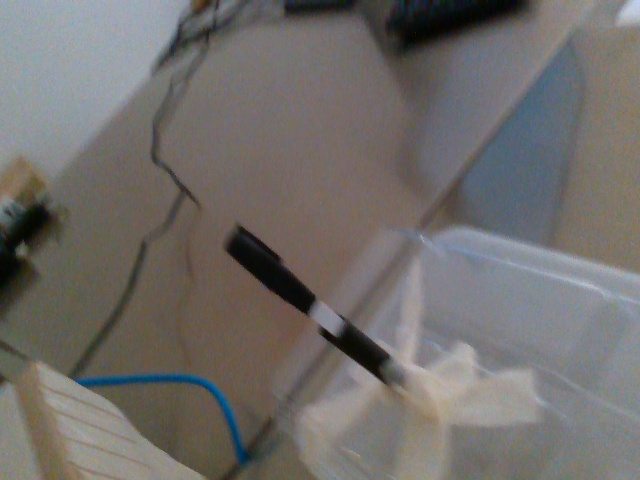test_strip: (223, 222, 345, 338)
